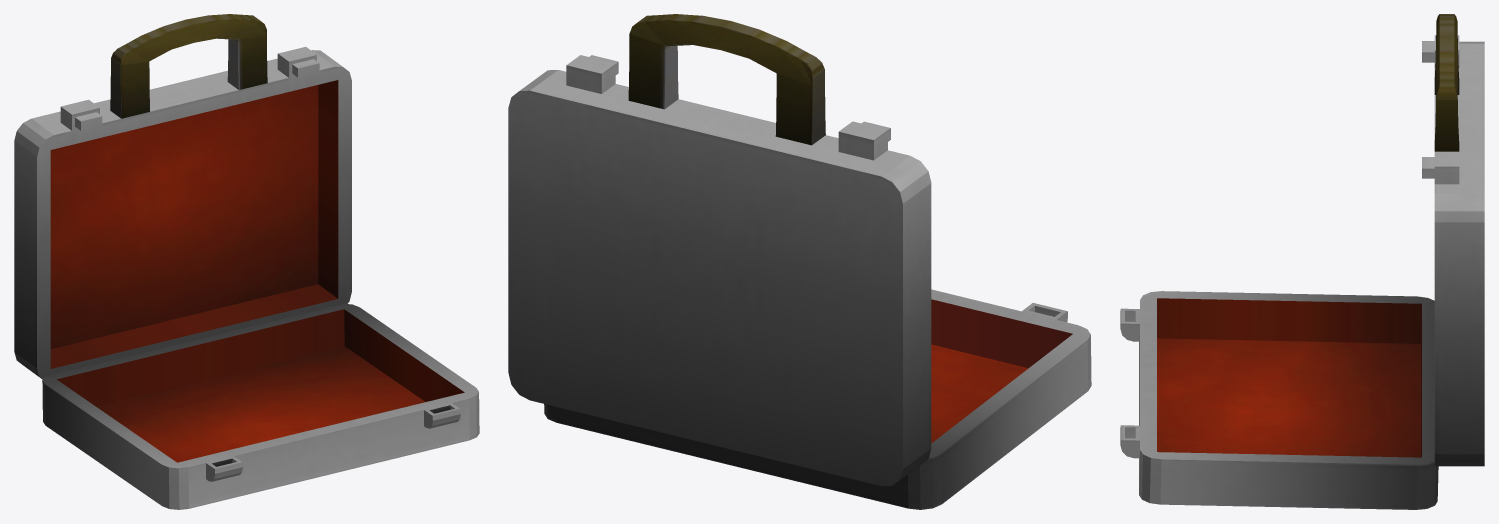
The picture shows the model from 3 angles, left to right: view 1: azimuth 30°, elevation 25°; view 2: azimuth 150°, elevation 25°; view 3: azimuth 270°, elevation 25°; orthographic projection. The views are drawn at different scales.
Parts seen in each view (by area): view 1: Back Lid_1; view 2: Back Lid_1; view 3: Back Lid_1.
Part boxes in pixels (left/top/right/bottom): Back Lid_1: left=14, top=14, right=479, bottom=509; Back Lid_1: left=508, top=14, right=1091, bottom=509; Back Lid_1: left=1120, top=14, right=1484, bottom=509.
Bounding box in the file's own units: 4 × 4.32 × 3.66.
1 material, 1 textured.
